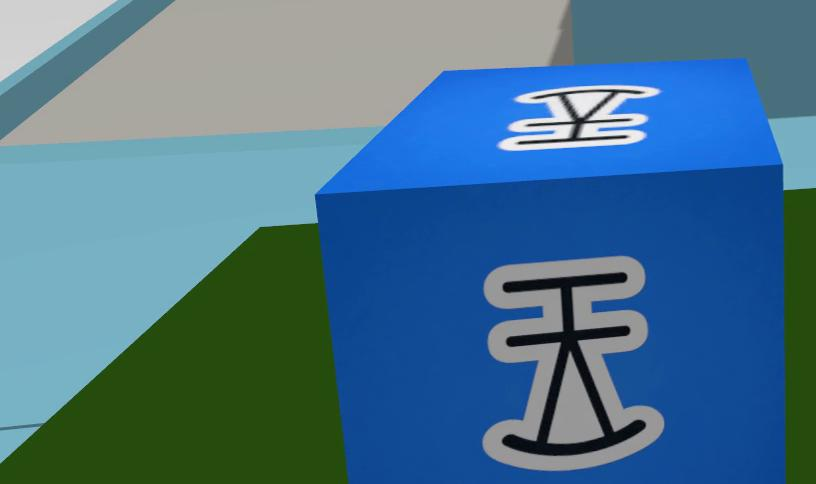KFS_REAL: (316, 60, 785, 483), (483, 256, 664, 470), (499, 85, 660, 150)
